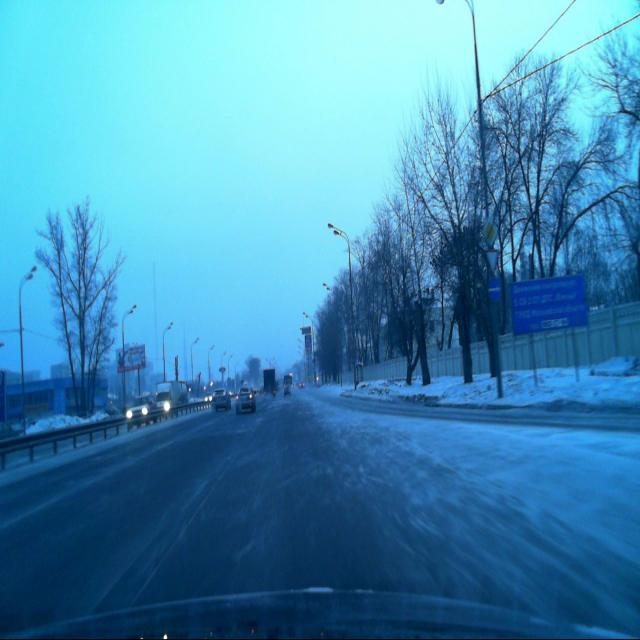road sign: (481, 219, 497, 248), (485, 248, 499, 273)
